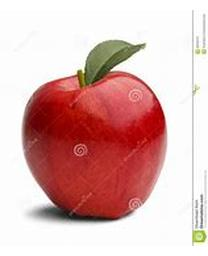apple: (21, 39, 169, 220)
